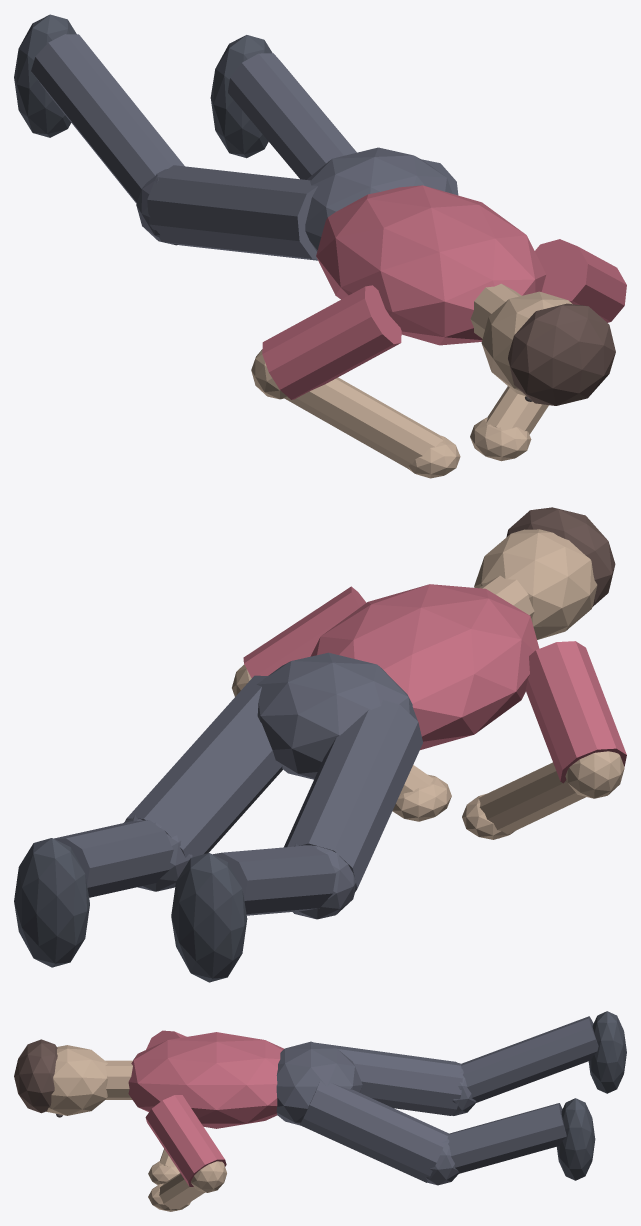
3 views of the same model, one above another, from view 1: azimuth 30°, elevation 25°; view 2: azimuth 150°, elevation 25°; view 3: azimuth 270°, elevation 25° (orthographic). The views are drawn at different scales.
Parts seen in each view (by area): view 1: world; view 2: world; view 3: world.
Boxes of the visible parts, x1,y1,x2,y2 form: world: (14,14,626,478); world: (14,507,626,982); world: (14,1011,626,1211).
Bounding box in the file's own units: 0.93 × 0.57 × 2.01.
